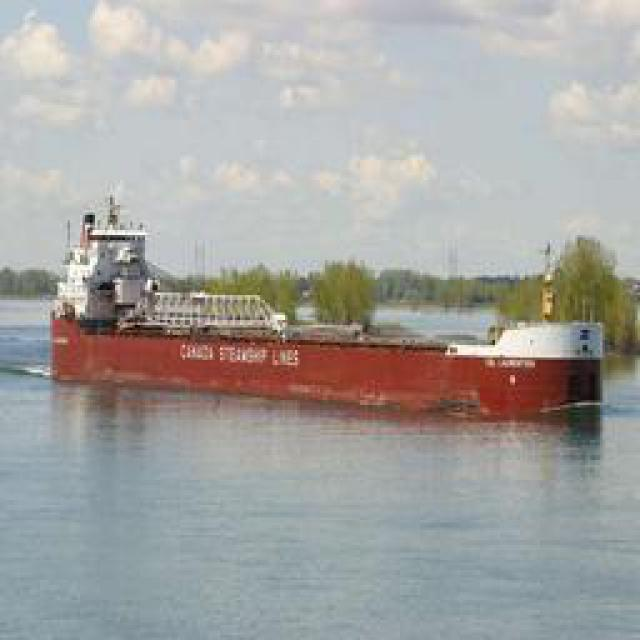Ship: (36, 194, 624, 417)
